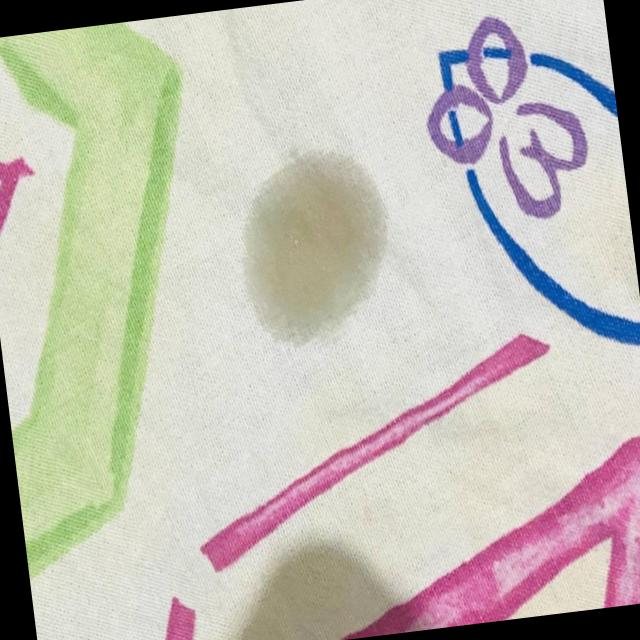stain: (229, 142, 400, 350)
